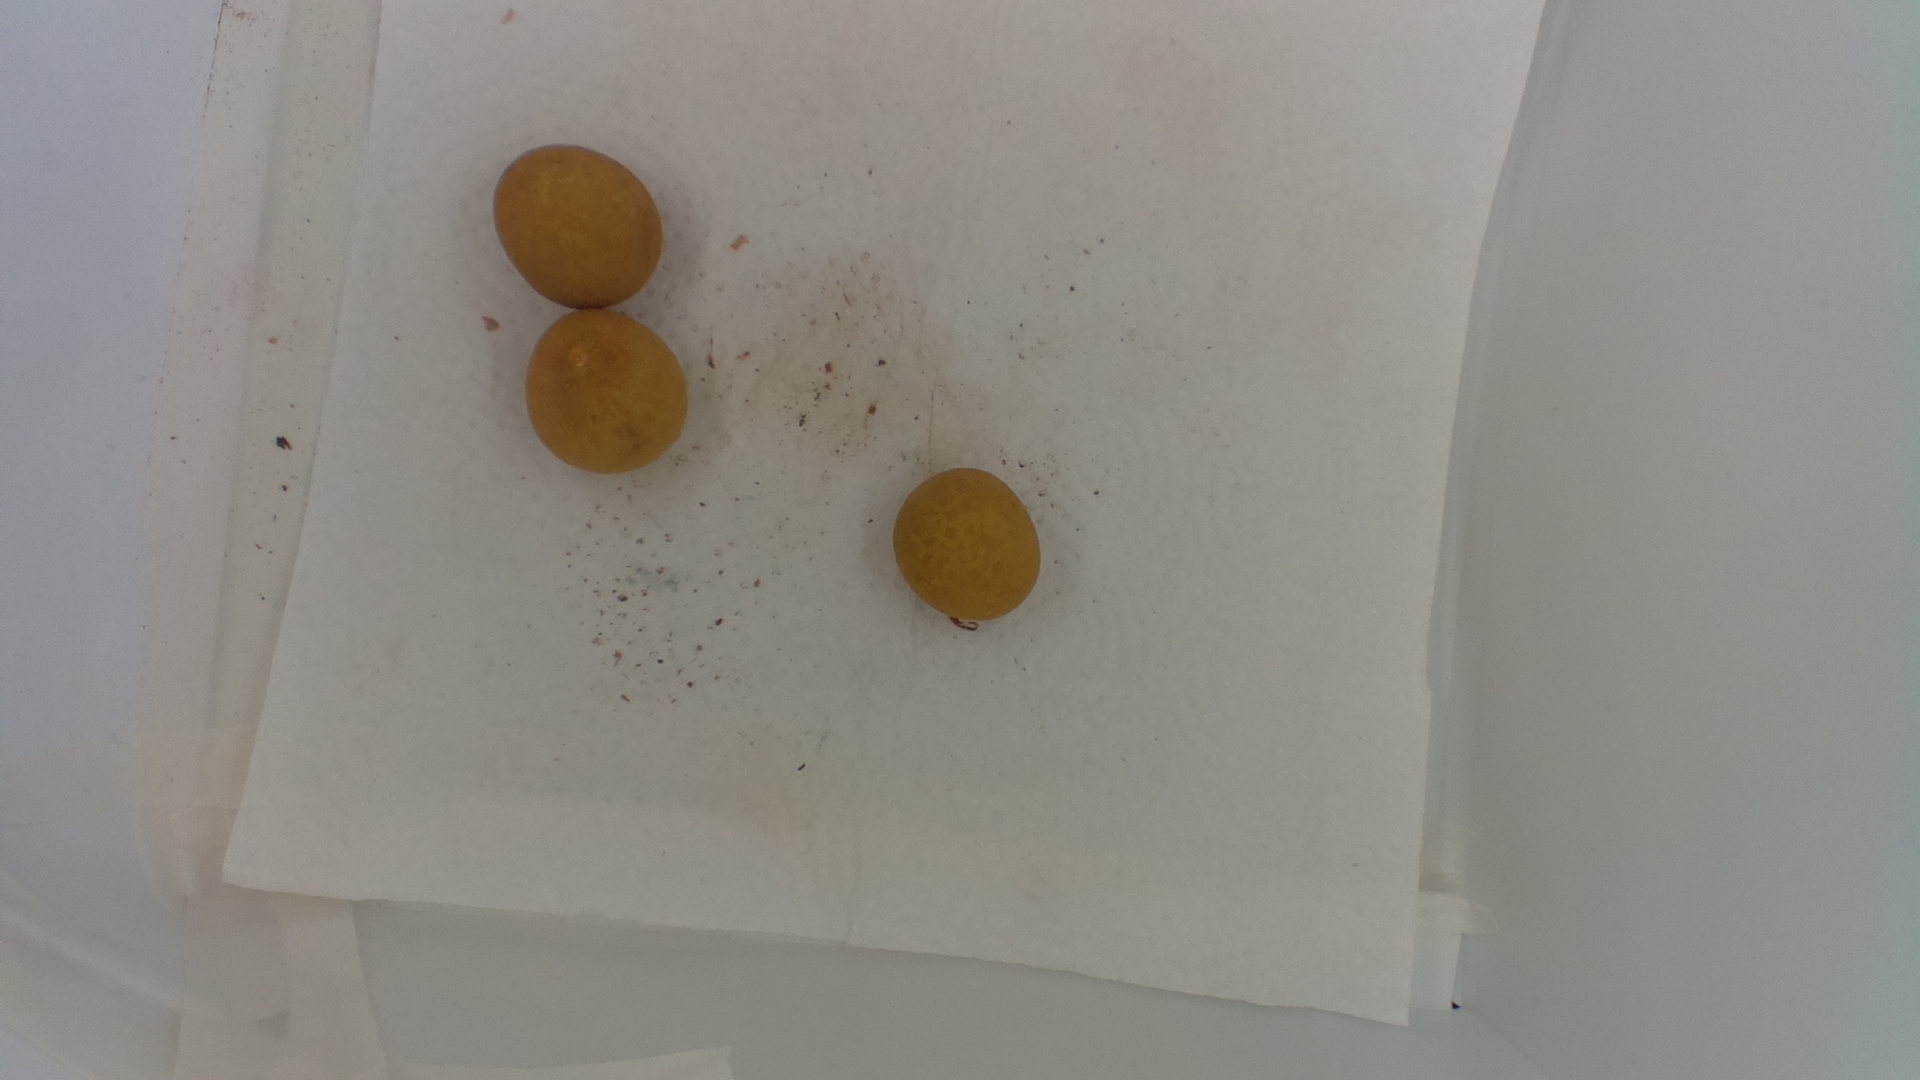fruit: (492, 142, 695, 476), (893, 467, 1040, 638)
